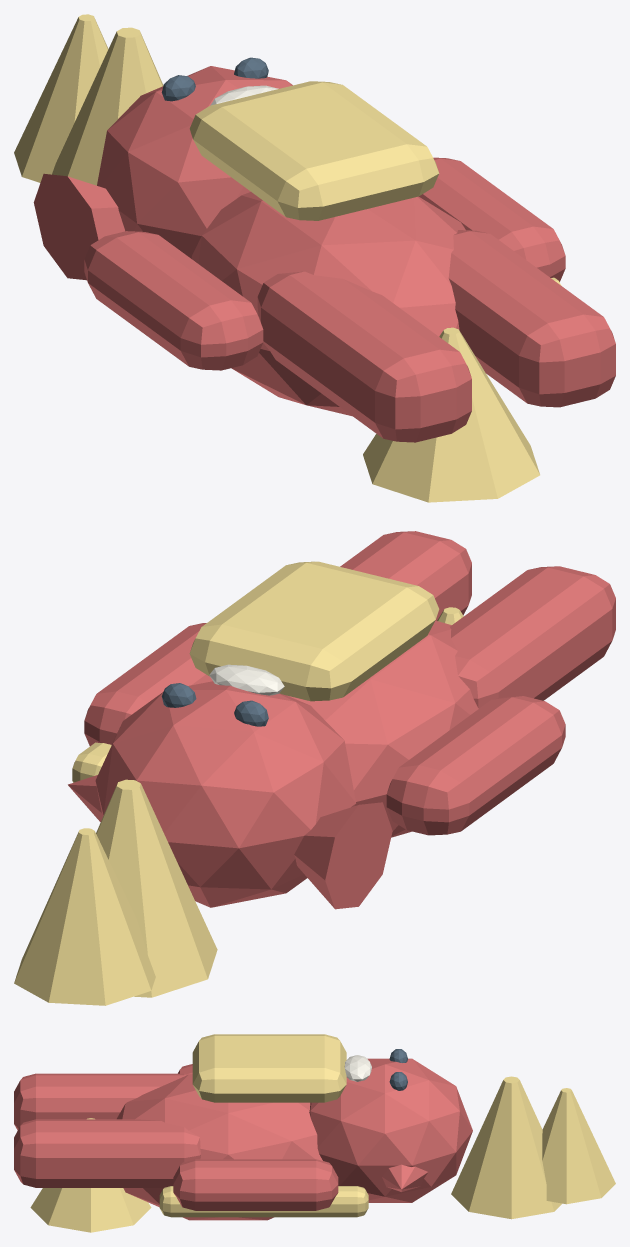
The model's file is infernape.glb.
3 renders of one model, top to bottom at view 1: azimuth 30°, elevation 25°; view 2: azimuth 150°, elevation 25°; view 3: azimuth 270°, elevation 25°, orthographic. The views are drawn at different scales.
Visible parts, largest first — view 1: body, legL, chest, legR, head, armL, flame, armR, crest, headFlame, earL, eye; view 2: head, chest, legL, armL, headFlame, body, crest, earL, legR, armR, muzzle, tail (+3 smaller); view 3: head, legR, body, chest, crest, armR, legL, headFlame, flame, tail, earR, muzzle.
Boxes of the visible parts, x1=… form: body: x1=191, y1=192, x2=465, y2=416; legL: x1=257, y1=271, x2=471, y2=442; chest: x1=189, y1=81, x2=439, y2=220; legR: x1=448, y1=230, x2=615, y2=407; head: x1=97, y1=66, x2=292, y2=258; armL: x1=84, y1=231, x2=263, y2=370; flame: x1=363, y1=327, x2=539, y2=502; armR: x1=419, y1=157, x2=565, y2=281; crest: x1=52, y1=27, x2=163, y2=185; headFlame: x1=14, y1=14, x2=108, y2=182; earL: x1=33, y1=173, x2=124, y2=280; eye: x1=161, y1=75, x2=195, y2=101; head: x1=95, y1=681, x2=355, y2=907; chest: x1=189, y1=561, x2=439, y2=701; legL: x1=450, y1=566, x2=615, y2=708; armL: x1=386, y1=696, x2=565, y2=835; headFlame: x1=14, y1=828, x2=155, y2=1005; body: x1=288, y1=620, x2=478, y2=837; crest: x1=96, y1=779, x2=217, y2=997; earL: x1=294, y1=802, x2=392, y2=909; legR: x1=340, y1=531, x2=471, y2=620; armR: x1=84, y1=623, x2=212, y2=746; muzzle: x1=209, y1=664, x2=284, y2=695; tail: x1=72, y1=742, x2=111, y2=782; head: x1=309, y1=1058, x2=472, y2=1202; legR: x1=14, y1=1119, x2=200, y2=1187; body: x1=117, y1=1074, x2=322, y2=1220; chest: x1=192, y1=1034, x2=346, y2=1102; crest: x1=451, y1=1076, x2=561, y2=1219; armR: x1=173, y1=1159, x2=338, y2=1210; legL: x1=14, y1=1073, x2=187, y2=1130; headFlame: x1=542, y1=1088, x2=615, y2=1204; flame: x1=30, y1=1118, x2=151, y2=1232; tail: x1=159, y1=1186, x2=368, y2=1217; earR: x1=382, y1=1164, x2=428, y2=1191; muzzle: x1=344, y1=1055, x2=371, y2=1081.
Bounding box in the file's own units: 1.38 × 0.8525 × 2.89.
